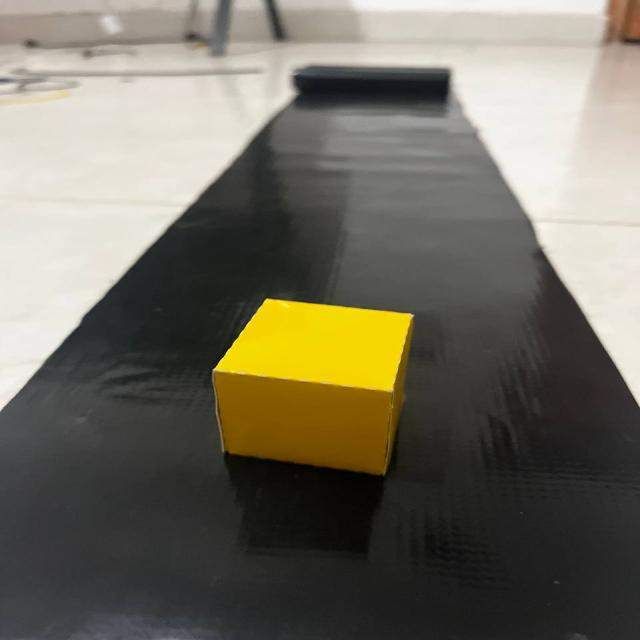Amarillo: (198, 286, 428, 492)
